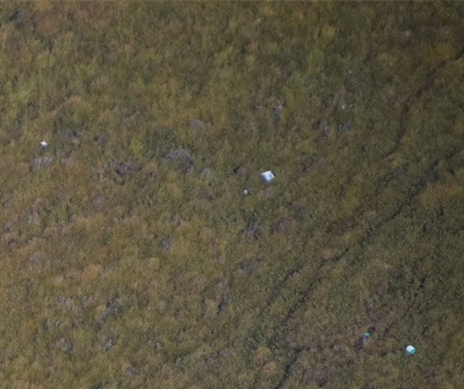scattered_barrel: (350, 310, 430, 365), (225, 155, 291, 205)
white_in_green: (15, 123, 74, 168)
